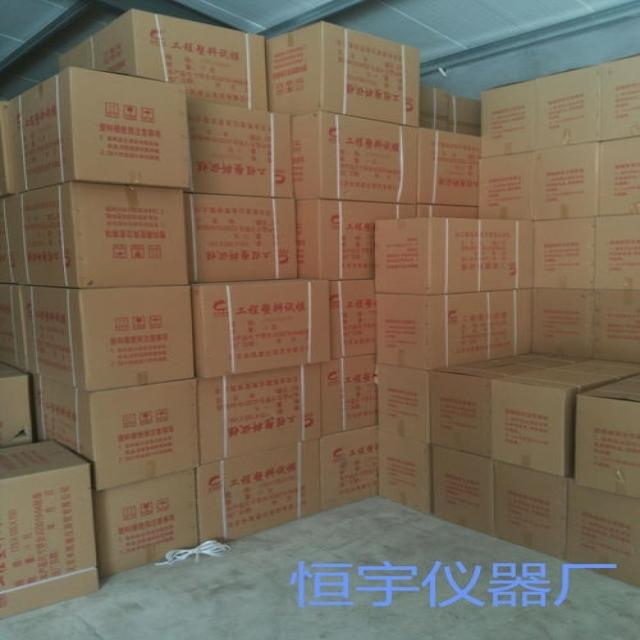box: (0, 65, 192, 197), (56, 9, 269, 110), (29, 373, 198, 491), (0, 182, 189, 287), (20, 284, 196, 392), (0, 439, 100, 620), (492, 358, 639, 477), (429, 353, 589, 459), (265, 21, 421, 127), (189, 280, 332, 379), (197, 440, 323, 547), (374, 288, 534, 370), (196, 363, 323, 466), (291, 109, 422, 204), (375, 217, 534, 295), (95, 467, 200, 578), (184, 98, 294, 199), (186, 193, 297, 285), (296, 200, 417, 281), (564, 478, 639, 588), (573, 375, 639, 500), (492, 459, 566, 560), (534, 63, 602, 150), (430, 444, 493, 536), (532, 142, 600, 222), (323, 424, 379, 512), (417, 128, 480, 206), (532, 217, 595, 290), (480, 79, 538, 158), (323, 356, 379, 436), (376, 432, 431, 513), (477, 151, 538, 221), (534, 288, 594, 358), (378, 364, 430, 444), (328, 279, 378, 361), (589, 290, 639, 364), (595, 137, 639, 217), (594, 214, 640, 290), (600, 54, 639, 142), (0, 361, 33, 447), (0, 283, 29, 373), (421, 83, 451, 130), (448, 93, 480, 136), (417, 204, 480, 219)
